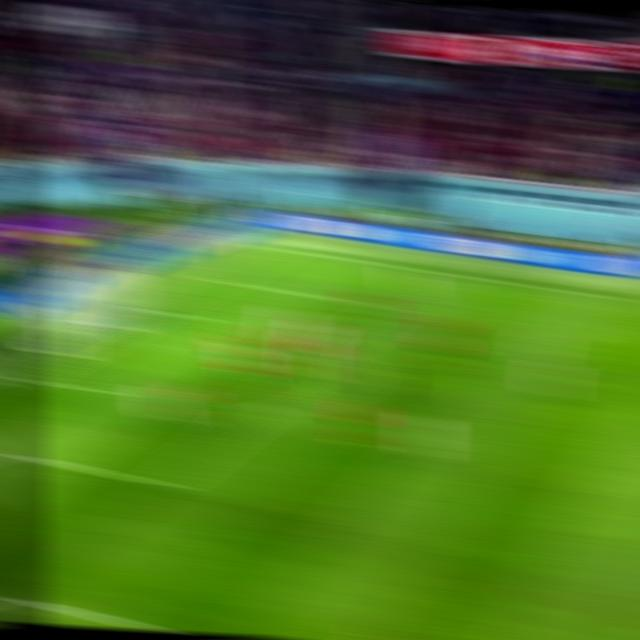bigarea_bottom_inner: (142, 468, 186, 500)
bigarea_top_inner: (370, 296, 410, 320)
bigarea_top_outter: (199, 270, 239, 288)
bottom_arc_area_intersection: (239, 398, 280, 422)
corner: (260, 241, 298, 257)
smallarea_bottom_inner: (73, 376, 118, 404)
smallarea_bottom_outter: (6, 367, 47, 388)
smallarea_top_inner: (196, 308, 236, 332)
smallarea_top_outter: (137, 298, 177, 322)
top_arc_area_intersection: (318, 337, 357, 360)
